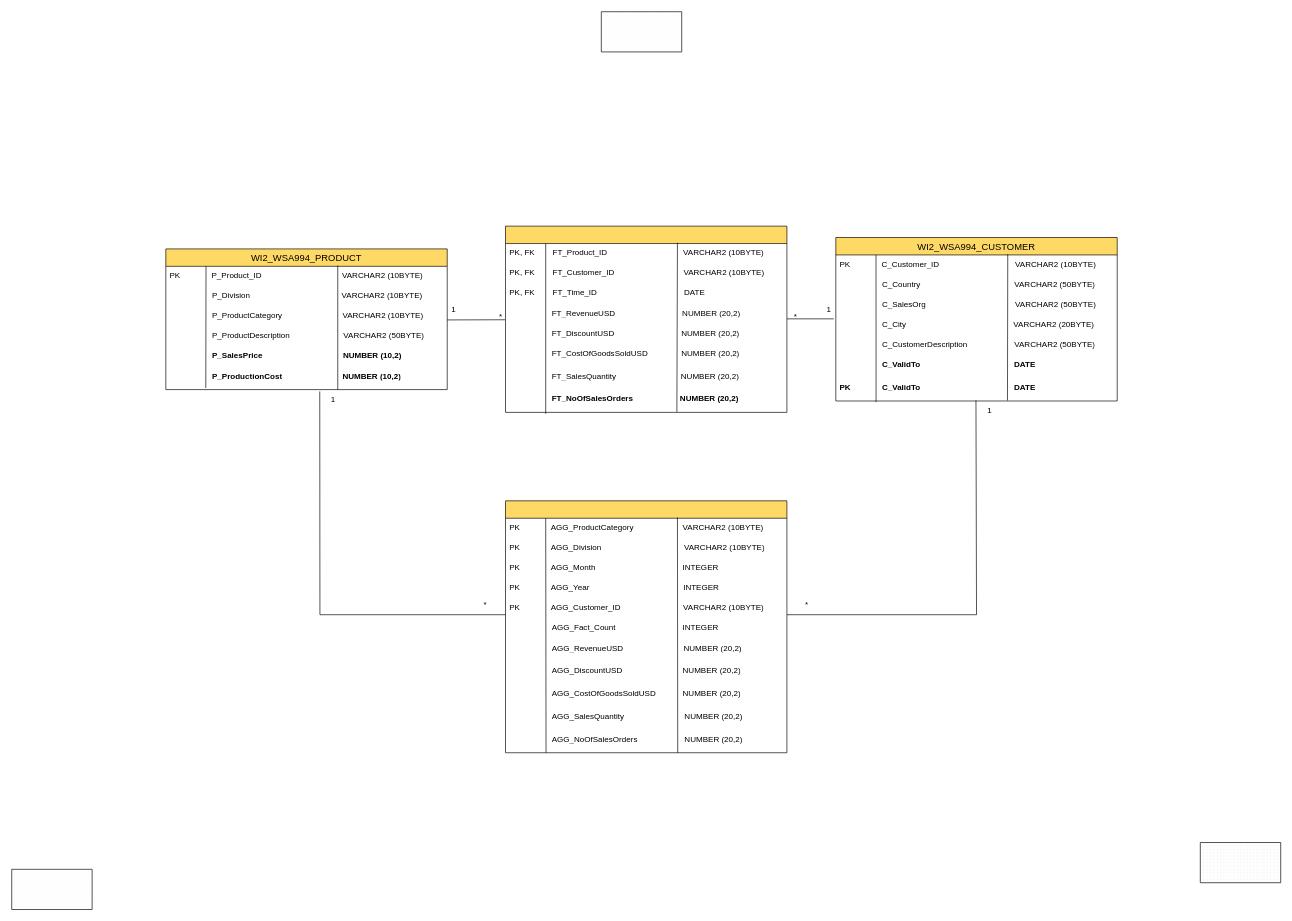
This 1292x921 diagram has some shape labels left out. The box of each missing label's shape, as (x1, y1, x2, y2) in pixels:
AGG_WI2_WSA994_FACTCONSTELLATIONTABLE: (505, 500, 787, 753)
WI2_WSA994_FACTTABLE: (505, 225, 787, 412)
